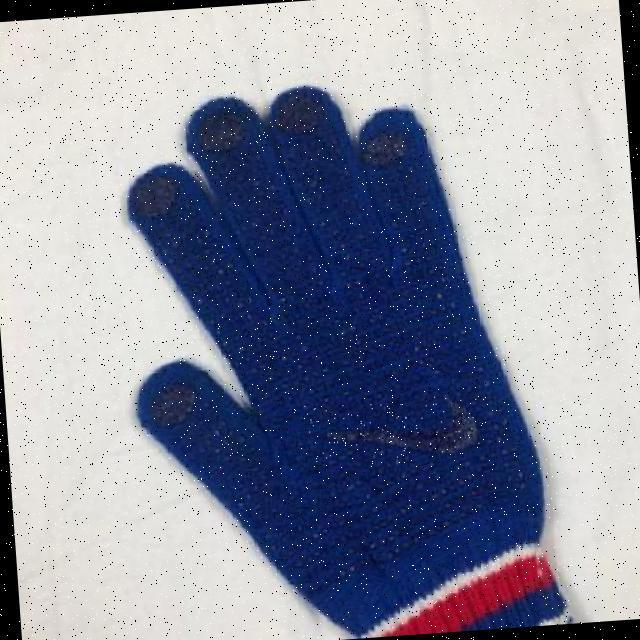Nike: (301, 394, 481, 464)
